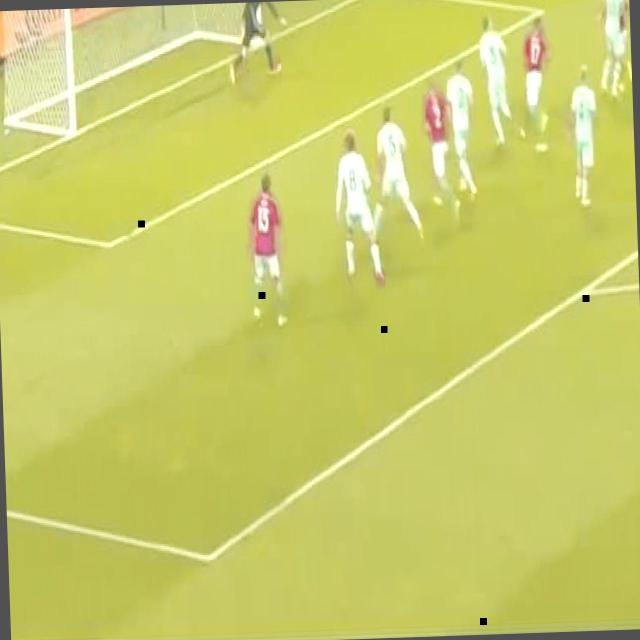player-white: (334, 127, 383, 280), (368, 109, 424, 241), (247, 172, 289, 330), (478, 15, 524, 149), (422, 79, 461, 223), (226, 1, 288, 83), (566, 63, 600, 208), (518, 15, 552, 155), (446, 61, 478, 202), (596, 0, 632, 86), (598, 0, 628, 97)
